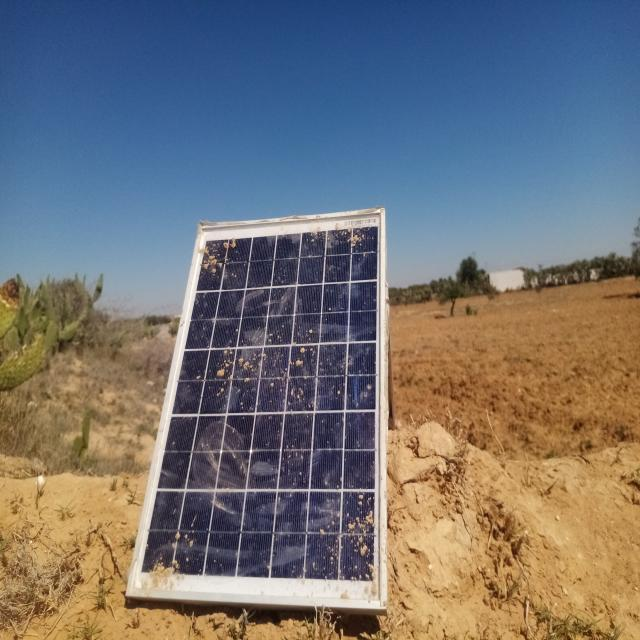faulty: (125, 206, 386, 607)
